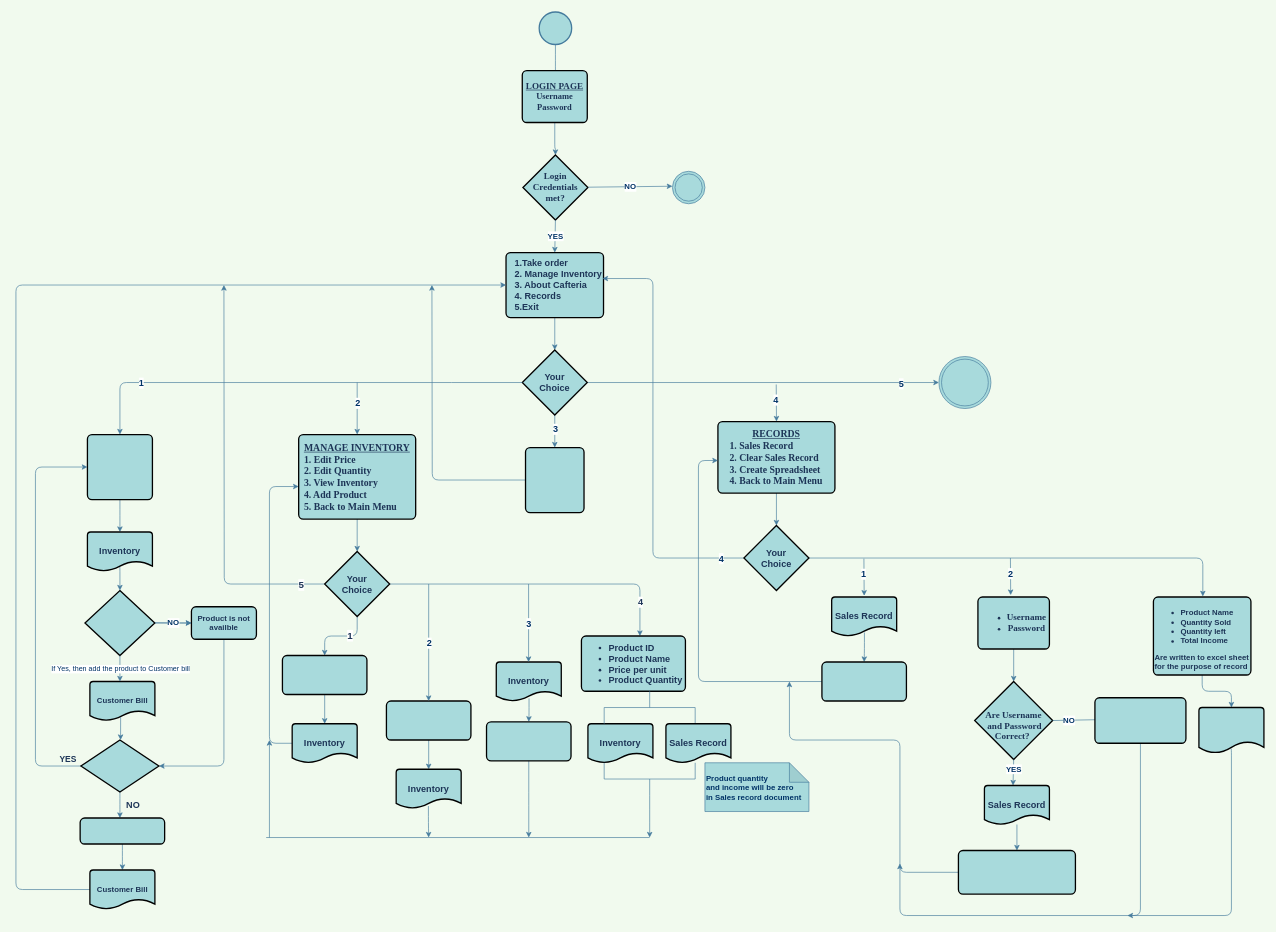
Some shapes in this 1276 by 932 pixel diagram are drawn without their labels. Each missing label, with the centre of its shape:
"Customer Name Total amount" belongs at (x=122, y=830).
"Daily Record (Excel Sheet)" belongs at (x=1231, y=730).
"Display the Contents of the Inventory" belongs at (x=528, y=741).
"Display the Contents of the Sales Record" belongs at (x=864, y=681).
"Income= 0 Product Quantity=0" belongs at (x=1016, y=872).
"Is Product available in Inventory?" belongs at (x=119, y=623).
"Product ID New Price" belongs at (x=324, y=675).
"Product ID Quantity" belongs at (x=428, y=720).
"TAKE ORDER Requires: Product ID Quantity" belongs at (x=119, y=467).
"Text about the LTTS Cafteria" belongs at (x=554, y=480).
"Username/Password incorrect You are not allowed to Clear Sales record" belongs at (x=1140, y=720).
"Want to add more products?" belongs at (x=119, y=765).
